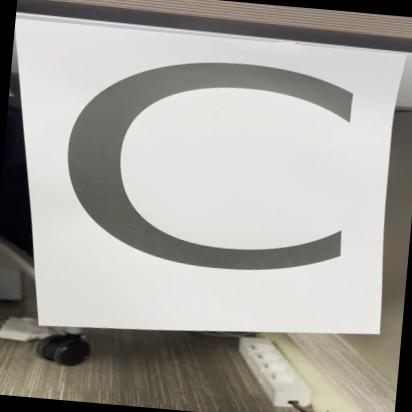seat: (0, 15, 404, 352)
